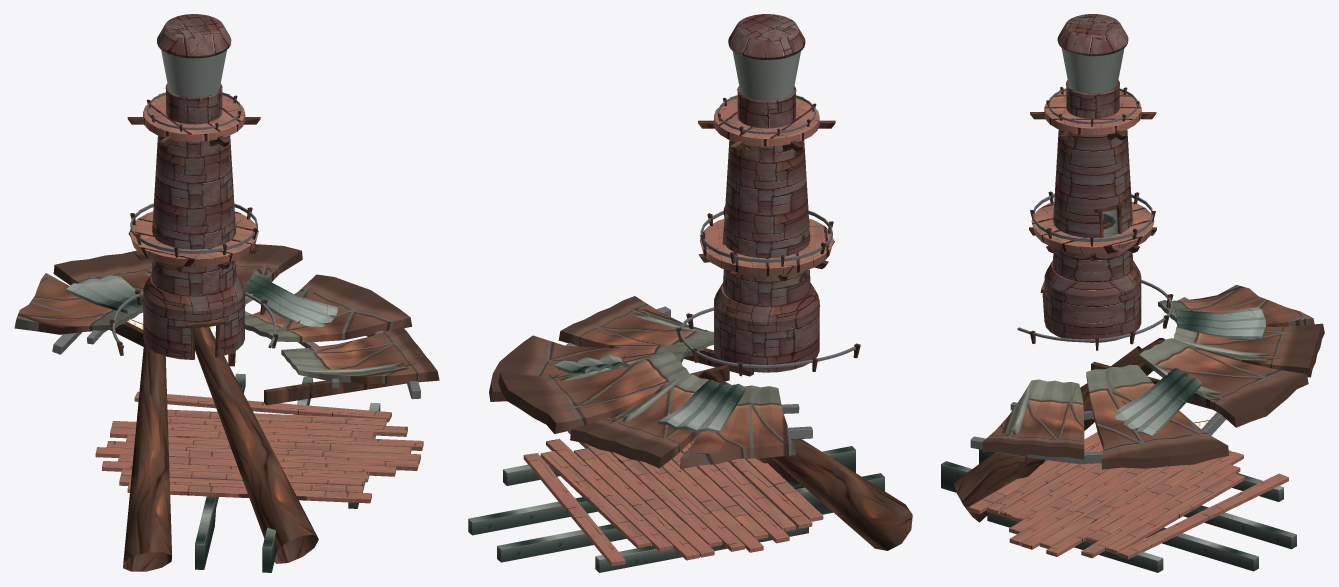
File: Far.glb
The picture shows the model from 3 angles, left to right: view 1: azimuth 30°, elevation 25°; view 2: azimuth 150°, elevation 25°; view 3: azimuth 270°, elevation 25°; orthographic projection. The views are drawn at different scales.
Visible parts, largest first — view 1: Cube.010; view 2: Cube.010; view 3: Cube.010.
Part boxes in pixels (x1,y1,x2,y2): Cube.010: (14,14,439,572); Cube.010: (468,14,912,572); Cube.010: (941,14,1324,572).
Bounding box in the file's own units: 37.7 × 55.65 × 40.22.
Materials: 8 (5 with a texture image).
